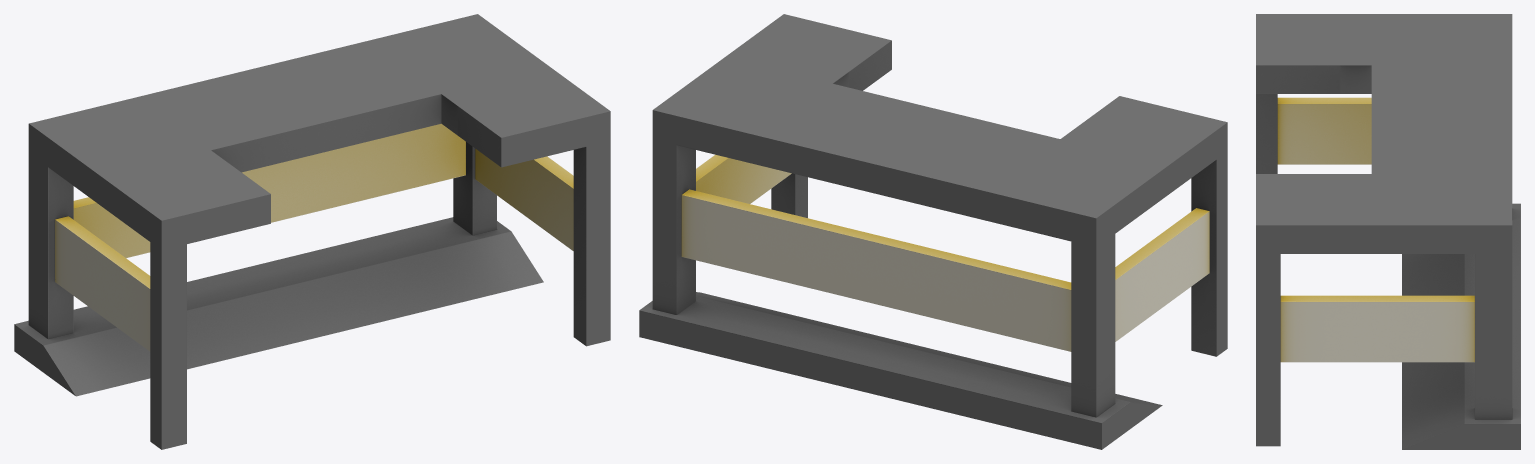
The model's file is Boss Desk.fbx.
The picture shows the model from 3 angles, left to right: view 1: azimuth 30°, elevation 25°; view 2: azimuth 150°, elevation 25°; view 3: azimuth 270°, elevation 25°; orthographic projection. The views are drawn at different scales.
Parts seen in each view (by area): view 1: Desk_boss; view 2: Desk_boss; view 3: Desk_boss.
Part boxes in pixels (left/top/right/bottom): Desk_boss: left=14, top=14, right=610, bottom=449; Desk_boss: left=639, top=14, right=1227, bottom=449; Desk_boss: left=1256, top=14, right=1520, bottom=449.
Size of the model in its own units: 90.83 by 42.5 by 46.18.
1 material, 1 textured.
